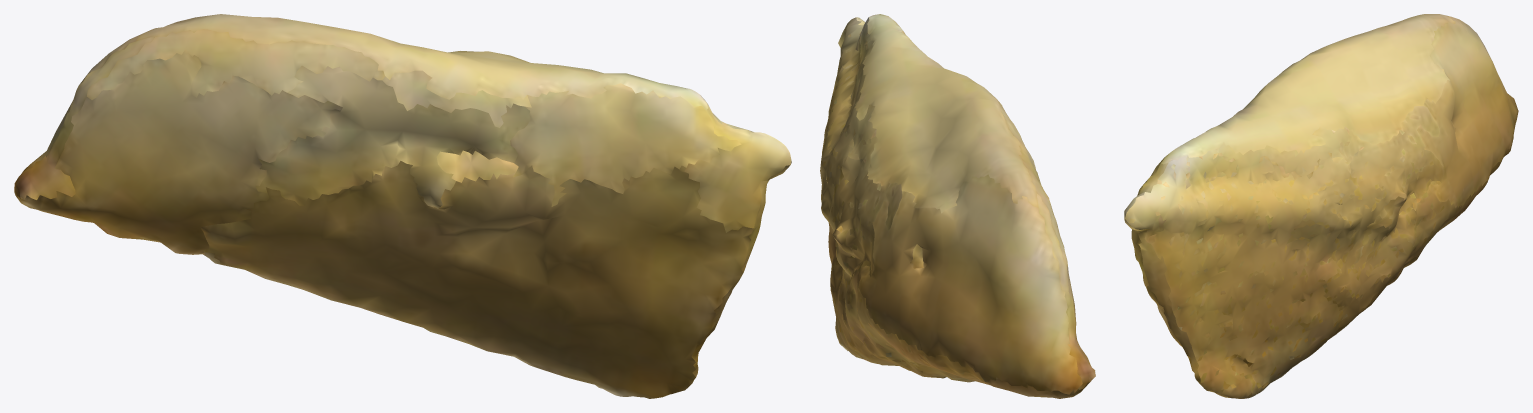
Rendered from 19_chair.glb.
3 renders of one model, left to right at view 1: azimuth 30°, elevation 25°; view 2: azimuth 150°, elevation 25°; view 3: azimuth 270°, elevation 25°, orthographic. The views are drawn at different scales.
Visible parts, largest first — view 1: 19_chair; view 2: 19_chair; view 3: 19_chair.
Part boxes in pixels (<box>): 19_chair: <box>14,14,791,398</box>; 19_chair: <box>820,14,1095,398</box>; 19_chair: <box>1124,14,1518,398</box>.
Bounding box in the file's own units: 0.5123 × 0.3451 × 0.4496.
Materials: 1 (1 with a texture image).
